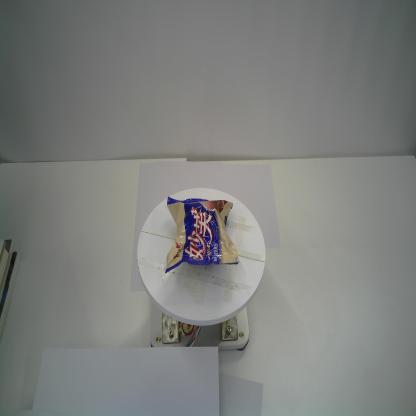Dessert: (164, 196, 240, 274)
